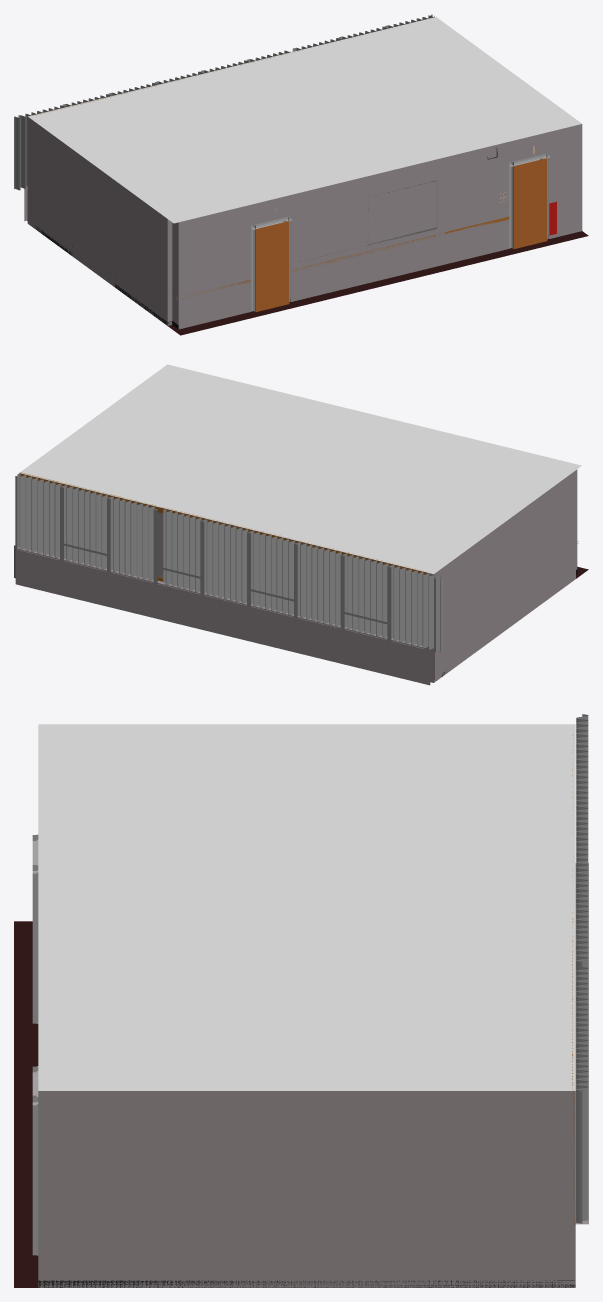
Rendered from conference.obj.
3 renders of one model, top to bottom at view 1: azimuth 30°, elevation 25°; view 2: azimuth 150°, elevation 25°; view 3: azimuth 270°, elevation 25°, orthographic. The views are drawn at different scales.
Visible parts, largest first — view 1: mesh5, mesh0, mesh2, mesh4, mesh35, mesh7, mesh8, mesh6; view 2: mesh5, mesh0, mesh35, mesh10, mesh8; view 3: mesh5, mesh0, mesh4, mesh35, mesh7, mesh6.
Boxes of the visible parts, <box> form: mesh5: <box>28,17,581,223</box>; mesh0: <box>24,117,582,329</box>; mesh2: <box>256,158,547,311</box>; mesh4: <box>168,231,588,335</box>; mesh35: <box>14,15,434,190</box>; mesh7: <box>251,153,549,311</box>; mesh8: <box>35,28,509,297</box>; mesh6: <box>36,226,548,328</box>; mesh5: <box>19,364,581,574</box>; mesh0: <box>15,469,577,685</box>; mesh35: <box>17,473,443,652</box>; mesh10: <box>15,476,435,652</box>; mesh8: <box>19,472,427,581</box>; mesh5: <box>38,724,575,1090</box>; mesh0: <box>38,863,588,1287</box>; mesh4: <box>14,921,38,1287</box>; mesh35: <box>576,714,588,1223</box>; mesh7: <box>32,834,38,1255</box>; mesh6: <box>38,1280,575,1287</box>.
Bounding box in the file's own units: 2706 × 653 × 1724.
